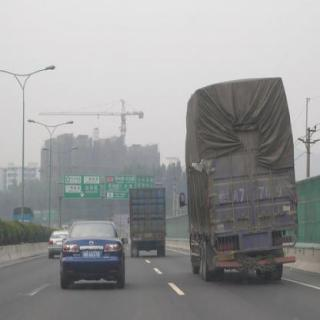Normal_vehicle: (170, 75, 305, 290)
